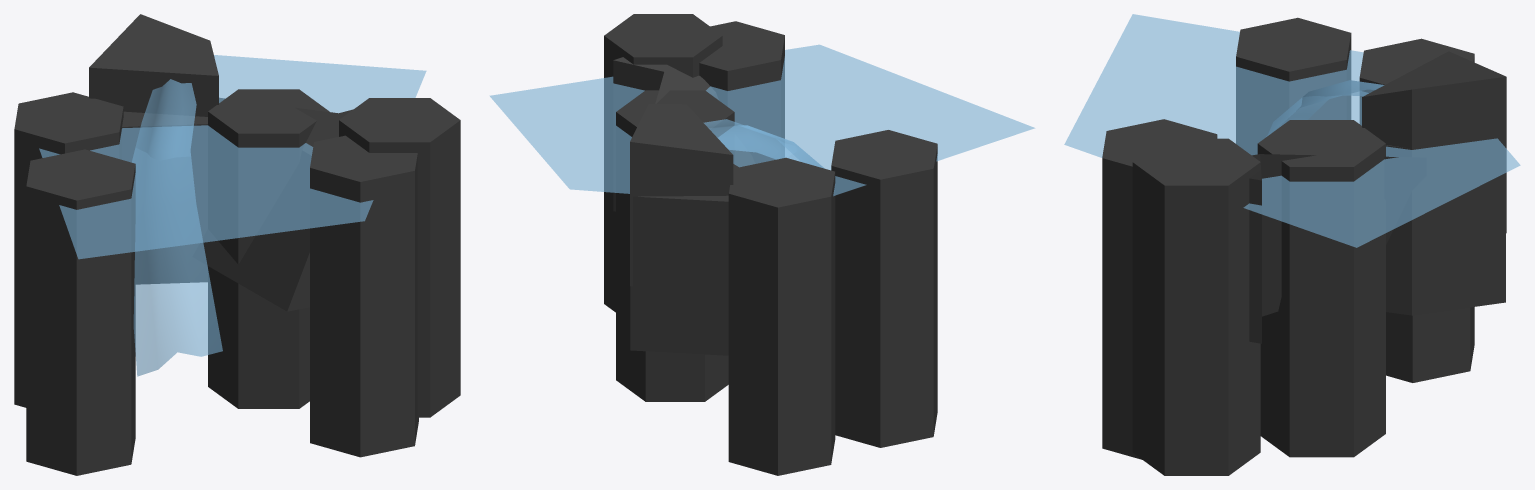
Rendered from BRUME_Blockout_H_Obstacle4.fbx.
3 views of the same model, side by side, from view 1: azimuth 30°, elevation 25°; view 2: azimuth 150°, elevation 25°; view 3: azimuth 270°, elevation 25° (orthographic). The views are drawn at different scales.
Visible parts, largest first — view 1: SM_Cascade, Cylinder.161, Cylinder.164, SM_Cascade_Eau, SM_Cascade.002, Cylinder.163; view 2: SM_Cascade, Cylinder.163, SM_Cascade_Eau, Cylinder.161, Cylinder.164, SM_Cascade.002; view 3: SM_Cascade, SM_Cascade_Eau, Cylinder.164, Cylinder.161, Cylinder.163, SM_Cascade.002.
Part boxes in pixels (x1,y1,x2,y2): SM_Cascade: (89, 14, 460, 417); Cylinder.161: (26, 149, 135, 475); Cylinder.164: (310, 135, 418, 457); SM_Cascade_Eau: (39, 55, 426, 259); SM_Cascade.002: (132, 79, 222, 376); Cylinder.163: (14, 92, 123, 407); SM_Cascade: (604, 14, 754, 401); Cylinder.163: (728, 157, 835, 475); SM_Cascade_Eau: (490, 44, 1034, 195); Cylinder.161: (831, 130, 937, 447); Cylinder.164: (699, 21, 784, 163); SM_Cascade.002: (704, 119, 823, 167); SM_Cascade: (1132, 51, 1506, 475); SM_Cascade_Eau: (1064, 14, 1520, 247); Cylinder.164: (1102, 119, 1217, 459); Cylinder.161: (1236, 17, 1351, 154); Cylinder.163: (1359, 38, 1474, 382); SM_Cascade.002: (1266, 80, 1384, 136).
Bounding box in the file's own units: 1727 × 1174 × 1425.
